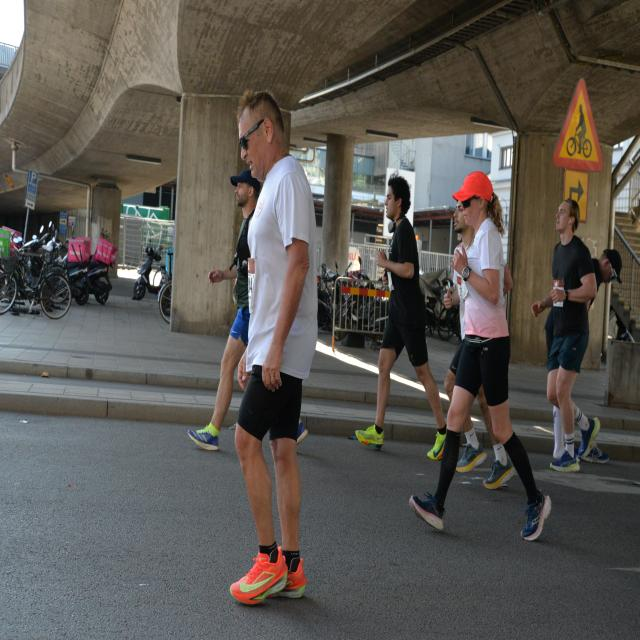runner-detect: (222, 86, 327, 615), (412, 185, 557, 546), (353, 161, 444, 465), (542, 200, 604, 478)
